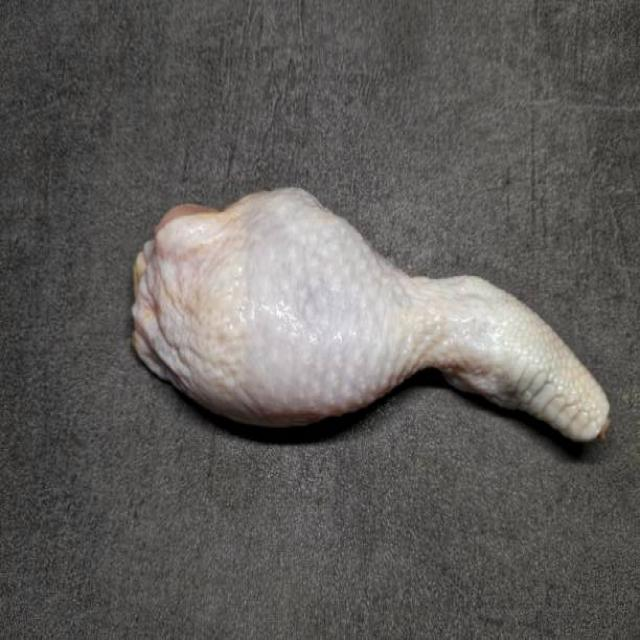Chicken: (119, 178, 613, 452)
